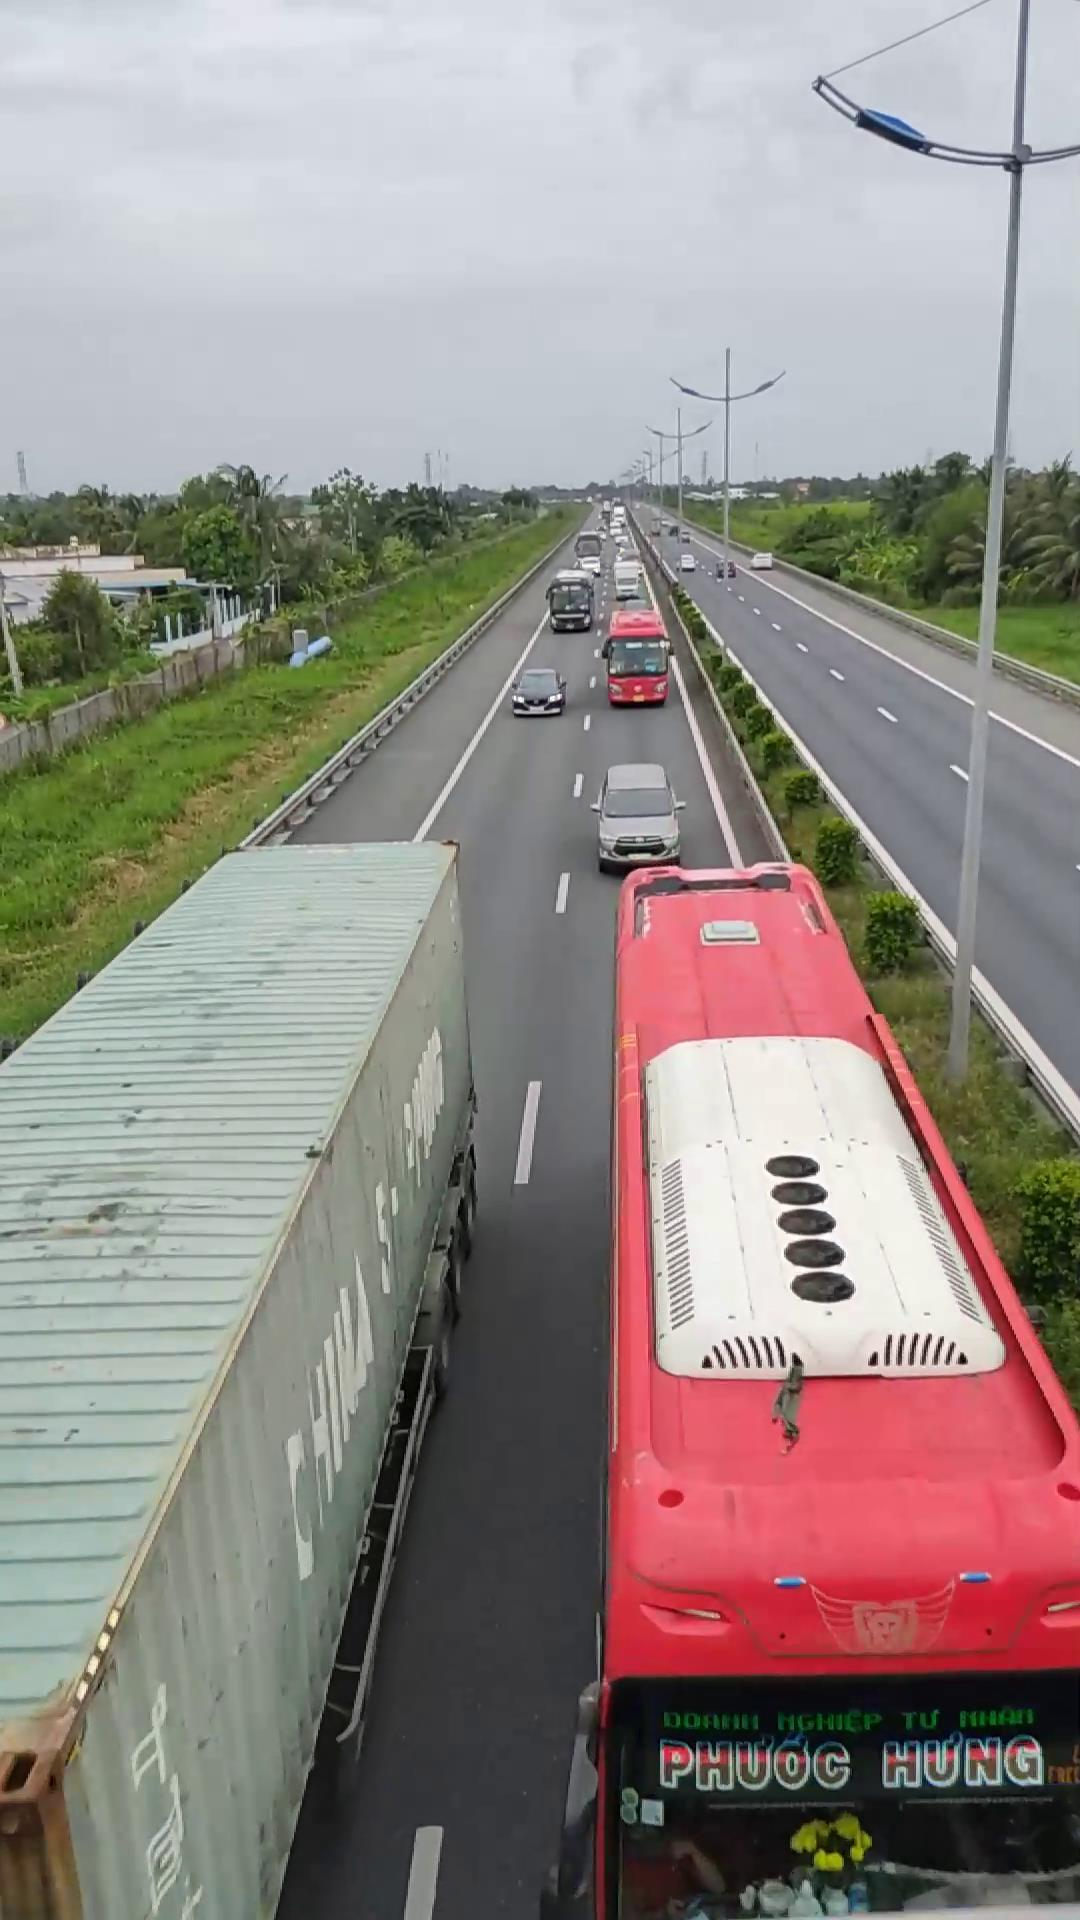bus: (590, 854, 1077, 1914)
car: (587, 762, 685, 872)
container: (0, 850, 473, 1918)
